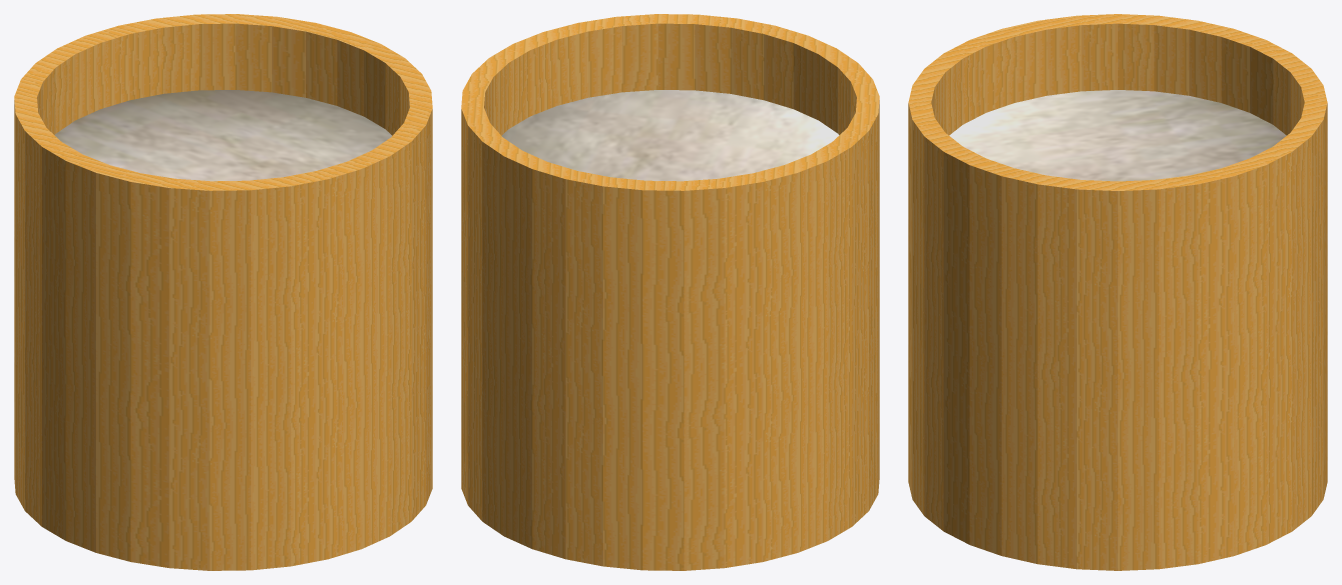
Rendered from okama_1.fbx.
3 renders of one model, left to right at view 1: azimuth 30°, elevation 25°; view 2: azimuth 150°, elevation 25°; view 3: azimuth 270°, elevation 25°, orthographic.
Visible parts, largest first — view 1: 円柱; view 2: 円柱; view 3: 円柱.
Boxes of the visible parts, <box> form: 円柱: <box>14,14,432,570</box>; 円柱: <box>461,14,879,570</box>; 円柱: <box>908,14,1327,570</box>.
Bounding box in the file's own units: 79.02 × 79.02 × 79.02.
2 materials, 2 textured.
